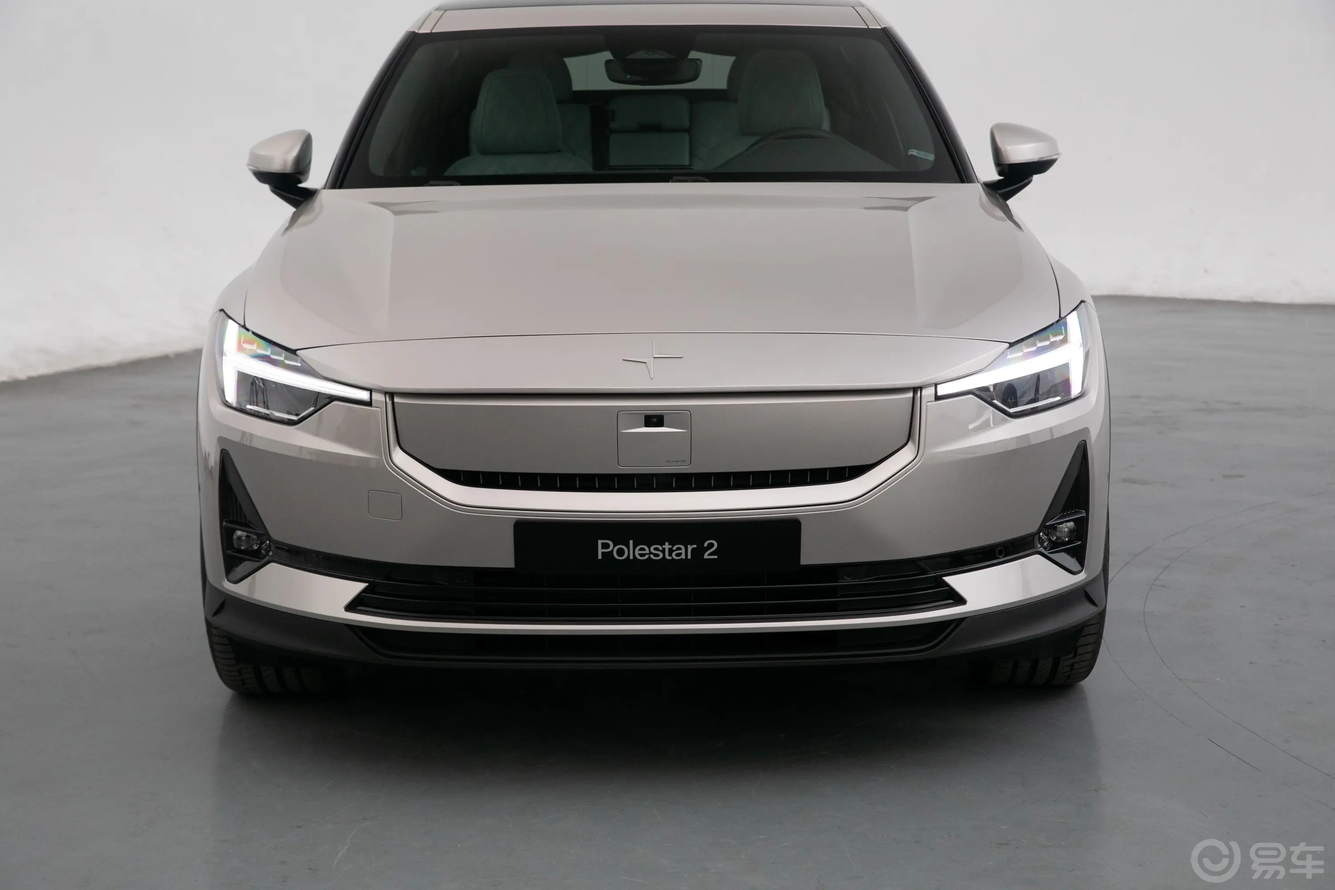Polestar: (623, 340, 683, 379)
